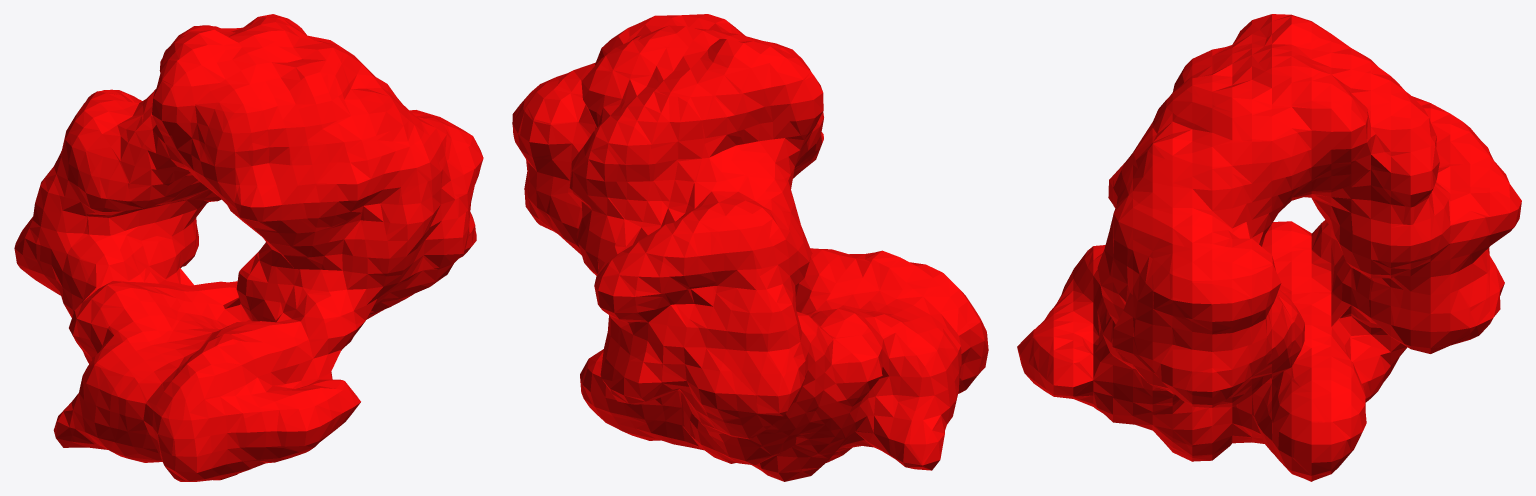
File: mtlA_coarse.dae
The picture shows the model from 3 angles, left to right: view 1: azimuth 30°, elevation 25°; view 2: azimuth 150°, elevation 25°; view 3: azimuth 270°, elevation 25°; orthographic projection. The views are drawn at different scales.
Parts seen in each view (by area): view 1: mtlA; view 2: mtlA; view 3: mtlA.
Part boxes in pixels (left/top/right/bottom): mtlA: left=14, top=14, right=483, bottom=481; mtlA: left=512, top=14, right=988, bottom=481; mtlA: left=1017, top=14, right=1521, bottom=481.
Size of the model in its own units: 83.29 by 81.14 by 81.74.
